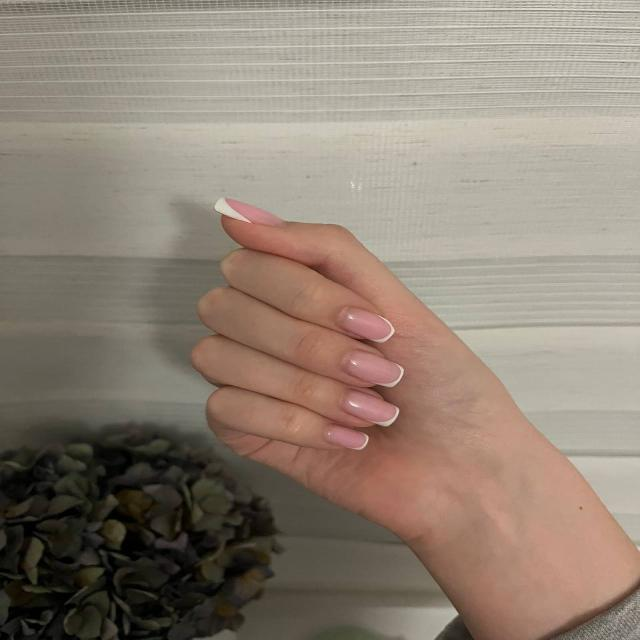a: (171, 188, 469, 504)
